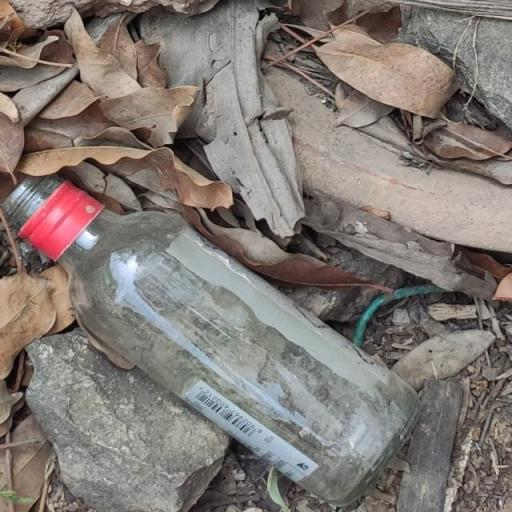glass: (0, 162, 434, 512)
